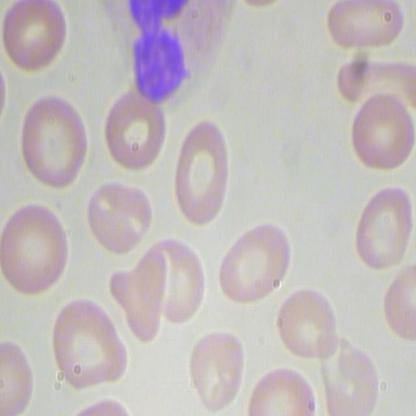RBC: (209, 217, 299, 309), (51, 296, 132, 390), (17, 92, 92, 191), (1, 203, 77, 296), (275, 270, 342, 367), (142, 230, 209, 327), (349, 175, 415, 273), (349, 83, 415, 180), (174, 119, 231, 231), (180, 327, 248, 413), (100, 90, 172, 171), (3, 1, 74, 81), (86, 177, 154, 257), (325, 1, 406, 52)
WBC: (92, 1, 240, 109)
